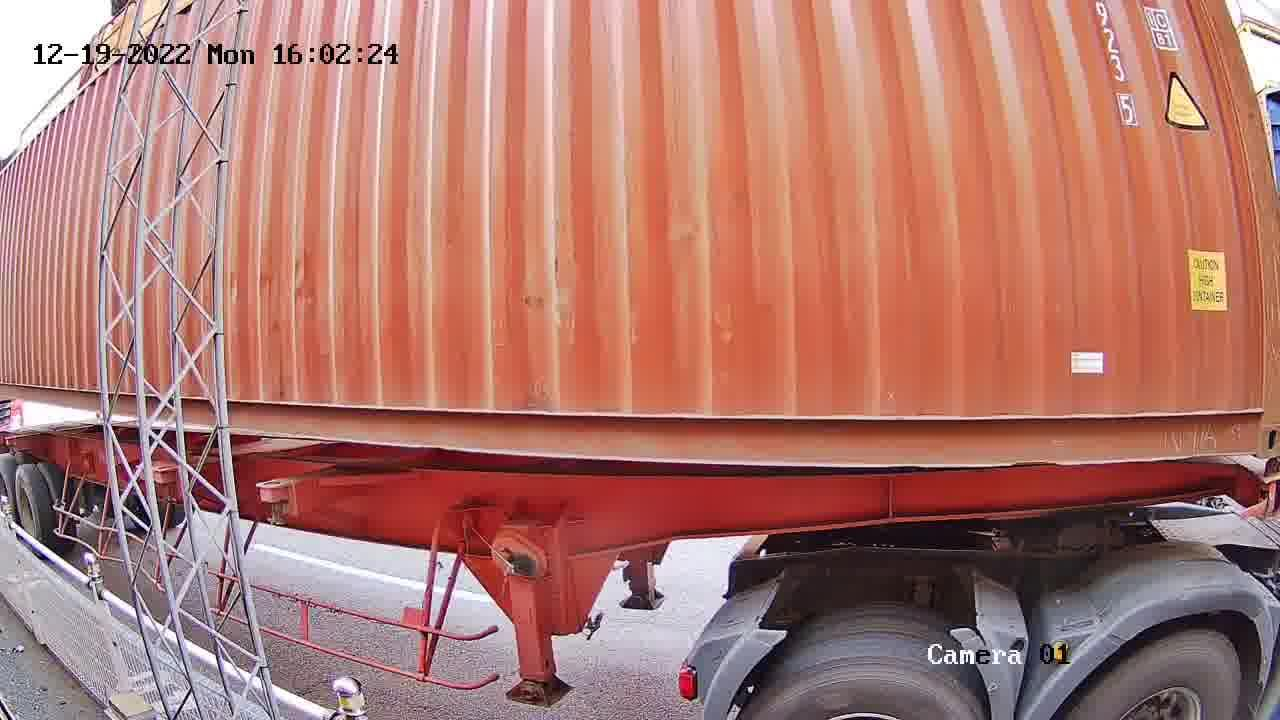Cone: (1249, 455, 1279, 518)
Hole_R: (1208, 378, 1279, 457)
